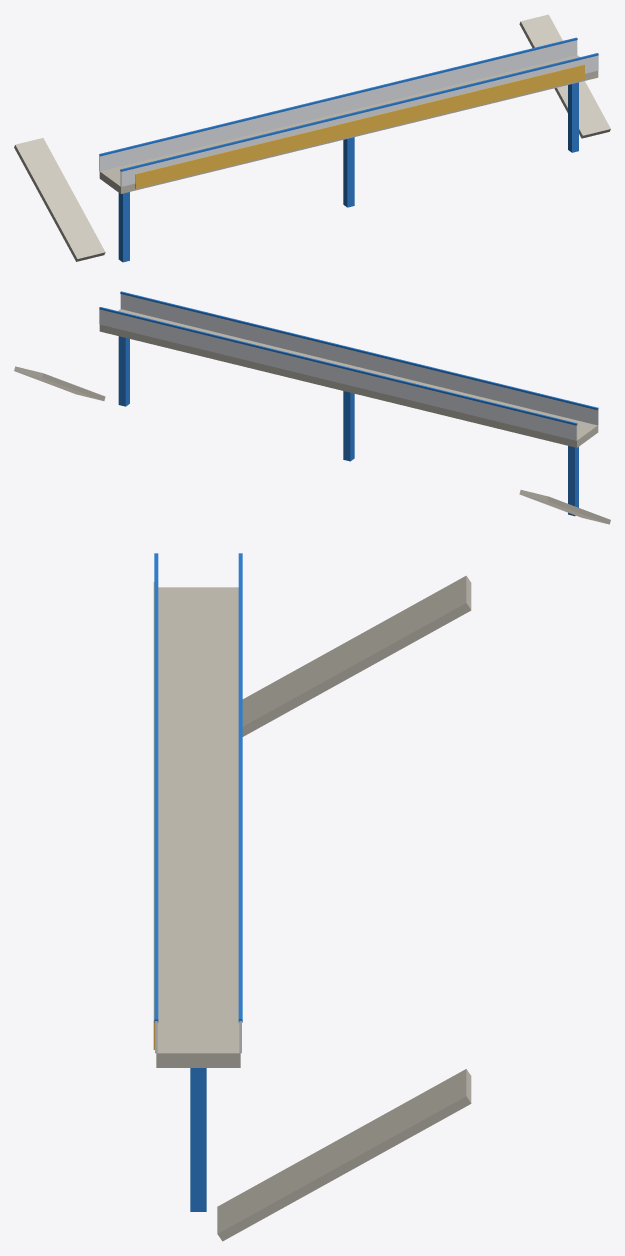
File: pedestrian_overpass.glb
3 views of the same model, one above another, from view 1: azimuth 30°, elevation 25°; view 2: azimuth 150°, elevation 25°; view 3: azimuth 270°, elevation 25° (orthographic). The views are drawn at different scales.
Visible parts, largest first — view 1: overpass; view 2: overpass; view 3: overpass.
Boxes of the visible parts, bbox=[...] form: overpass: bbox=[14, 14, 610, 262]; overpass: bbox=[14, 291, 610, 524]; overpass: bbox=[153, 553, 471, 1241].
Bounding box in the file's own units: 38 × 6.91 × 9.81.
